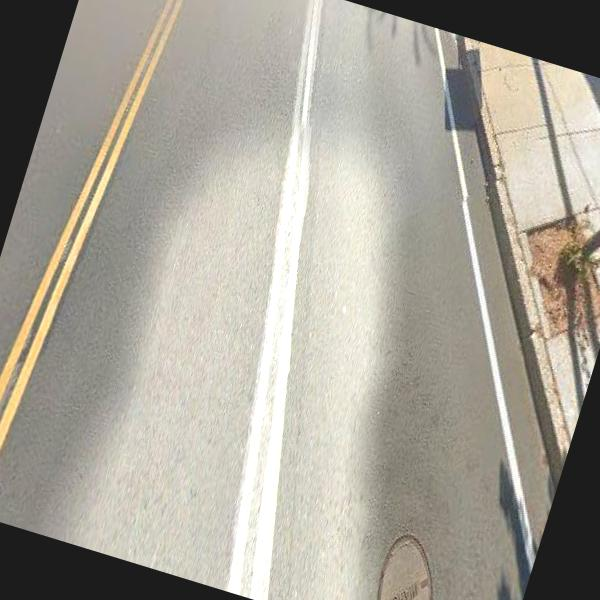manhole: (358, 521, 459, 600)
